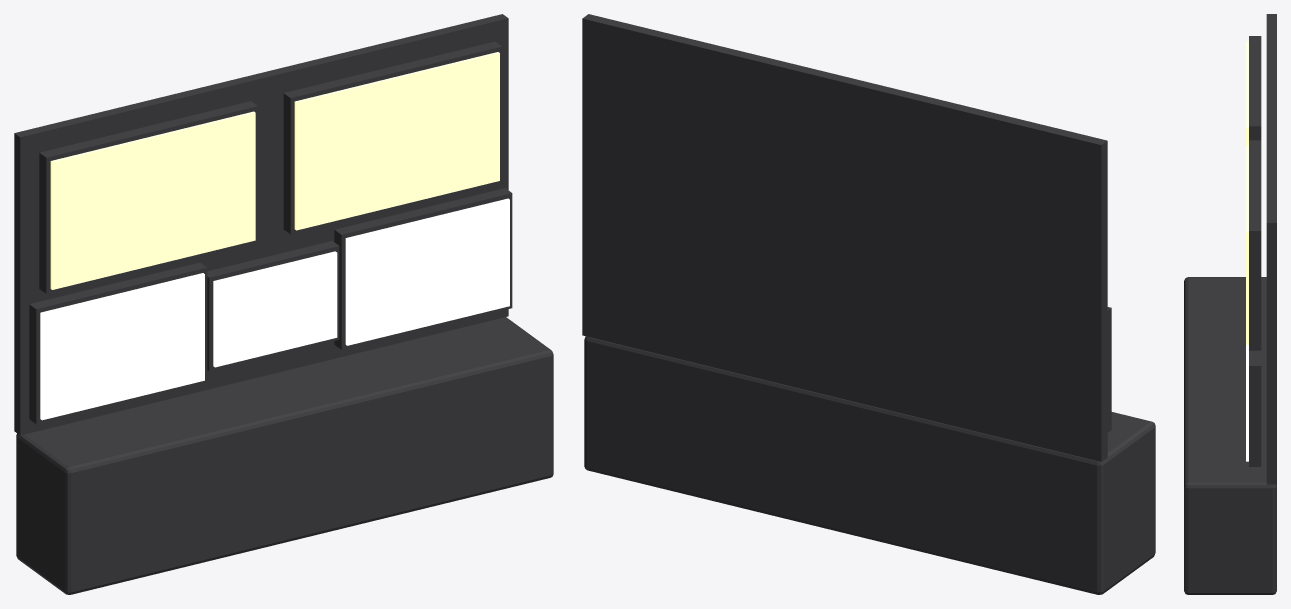
The model's file is tv_wall.glb.
3 views of the same model, side by side, from view 1: azimuth 30°, elevation 25°; view 2: azimuth 150°, elevation 25°; view 3: azimuth 270°, elevation 25° (orthographic). The views are drawn at different scales.
Visible parts, largest first — view 1: tv_wall; view 2: tv_wall; view 3: tv_wall.
Part boxes in pixels (<box>): tv_wall: <box>14,14,553,594</box>; tv_wall: <box>582,14,1155,594</box>; tv_wall: <box>1184,14,1276,594</box>.
Size of the model in its own units: 2.4 by 2 by 0.45.
